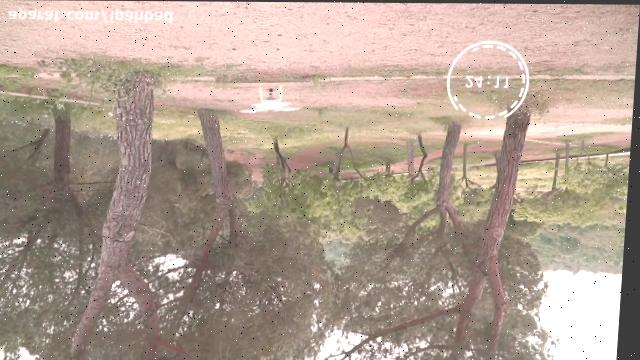drone: (239, 85, 307, 116)
